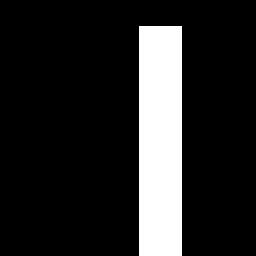person: (139, 26, 181, 255)
